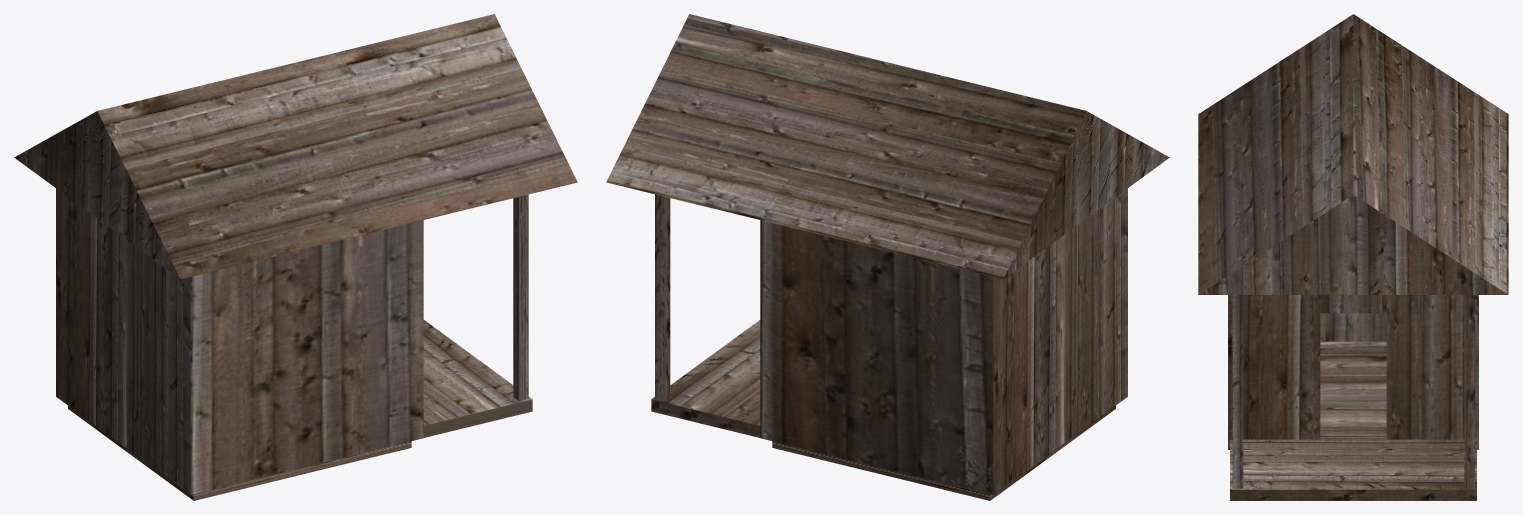
Rendered from small cabin.glb.
3 renders of one model, left to right at view 1: azimuth 30°, elevation 25°; view 2: azimuth 150°, elevation 25°; view 3: azimuth 270°, elevation 25°, orthographic. The views are drawn at different scales.
Visible parts, largest first — view 1: Cube.003, Cube.colonly; view 2: Cube.003, Cube.colonly; view 3: Cube.003, Cube.colonly.
Part boxes in pixels (x1,y1,x2,y2): Cube.003: (32, 14, 577, 500); Cube.colonly: (14, 113, 531, 500); Cube.003: (606, 14, 1169, 500); Cube.colonly: (644, 152, 1102, 494); Cube.003: (1198, 14, 1508, 500); Cube.colonly: (1198, 25, 1476, 489).
Size of the model in its own units: 4.4 by 3.73 by 3.19.
1 material, 1 textured.
